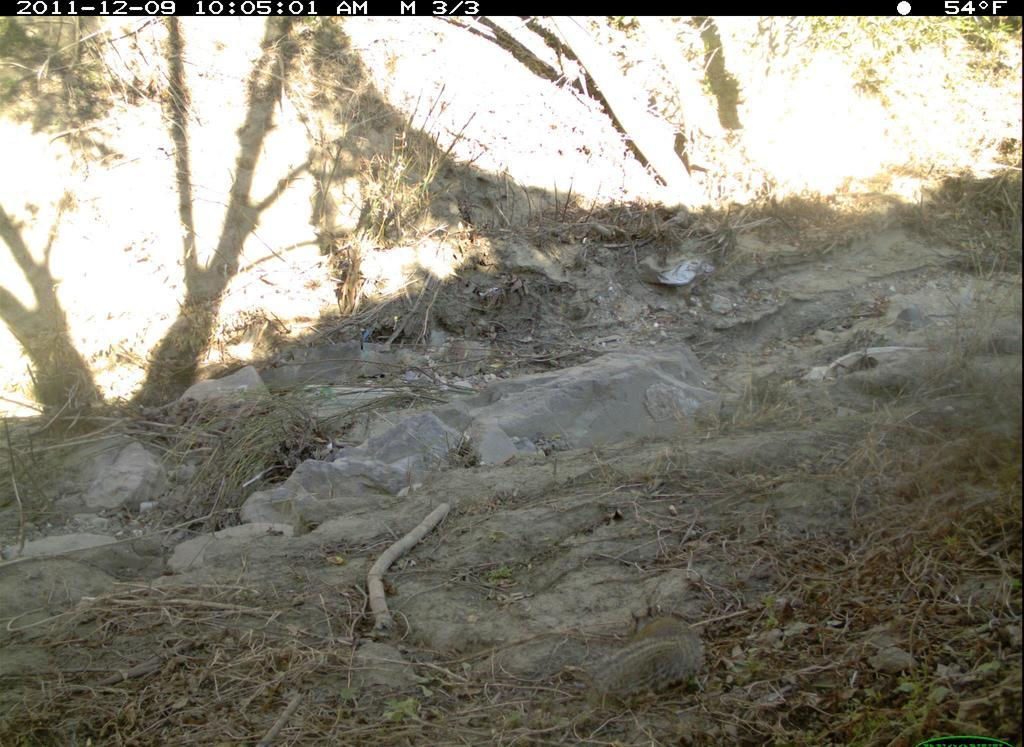squirrel: (573, 603, 712, 712)
